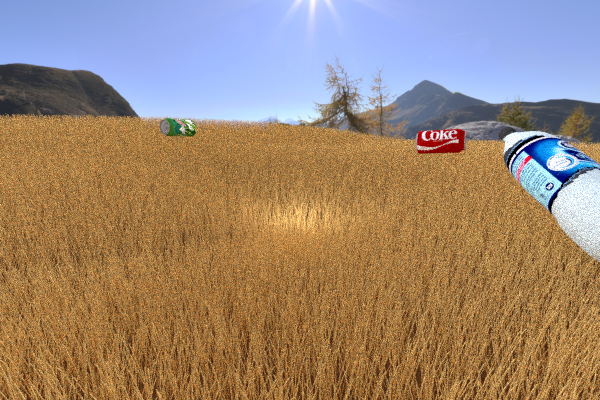Plastic Bottle: (498, 126, 600, 278), (415, 128, 466, 153), (159, 117, 196, 136)
